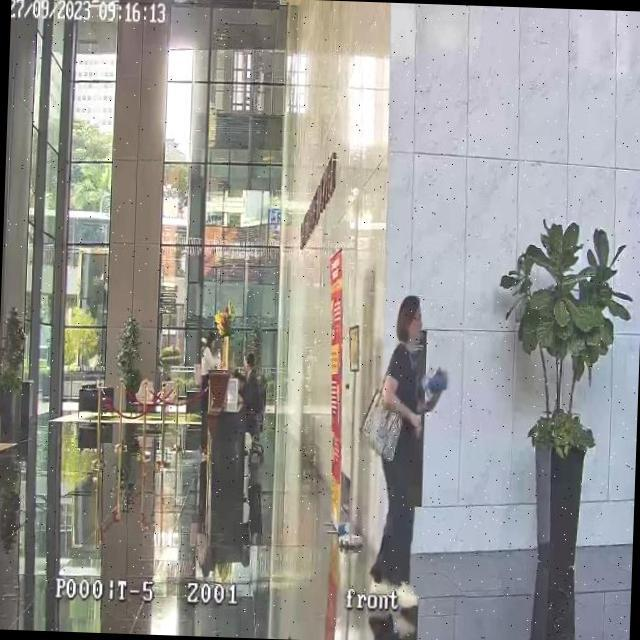person: (367, 293, 439, 587), (198, 332, 220, 460), (238, 348, 267, 439)
